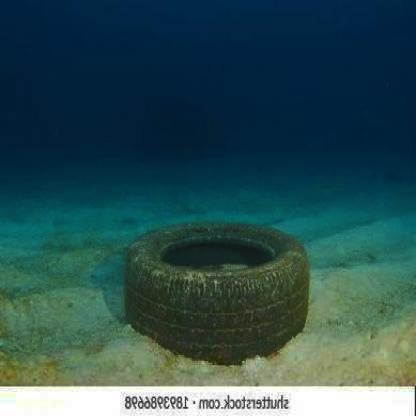tire: (110, 206, 325, 374)
